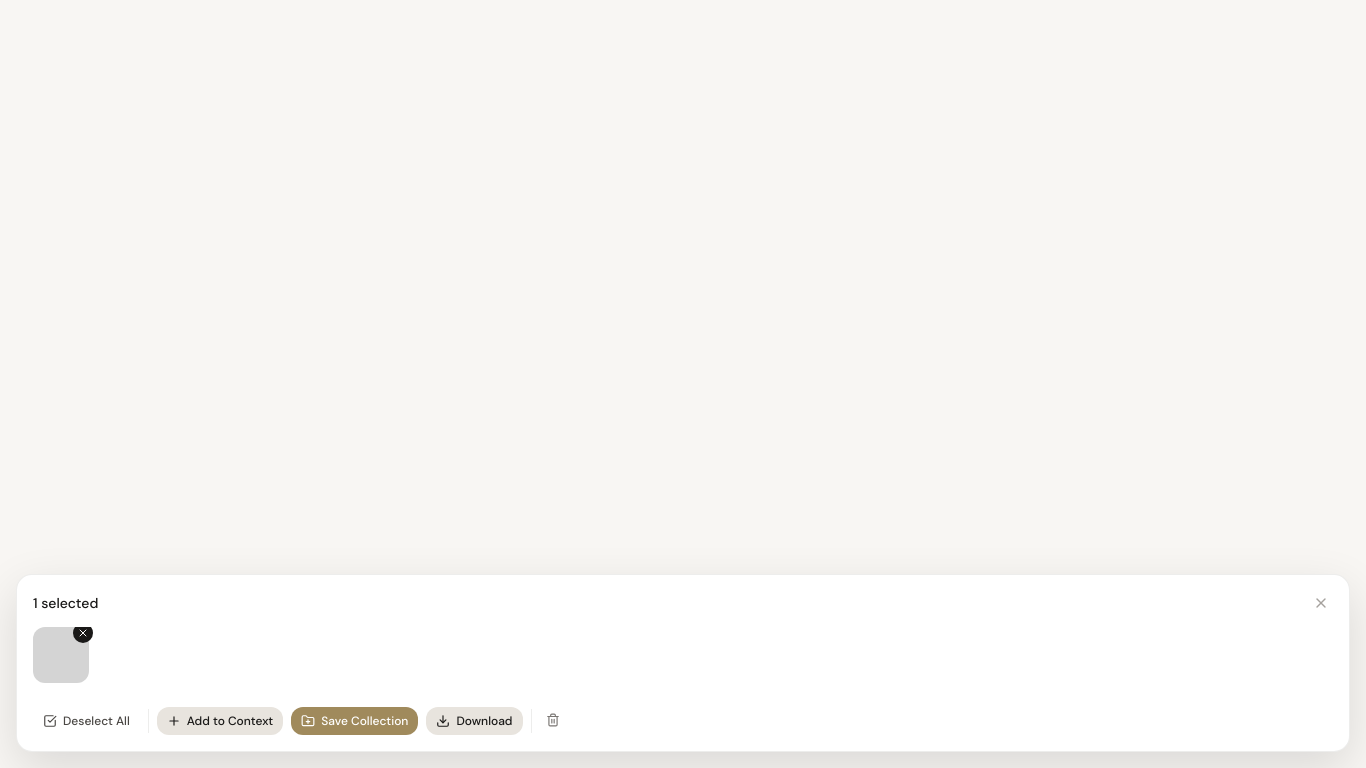
it: SelectionTray › collection dialog › should open dialog when Save Collection is clicked
Step 1. Click the button "Save Collection" → (355, 721), box [291,707,418,735]
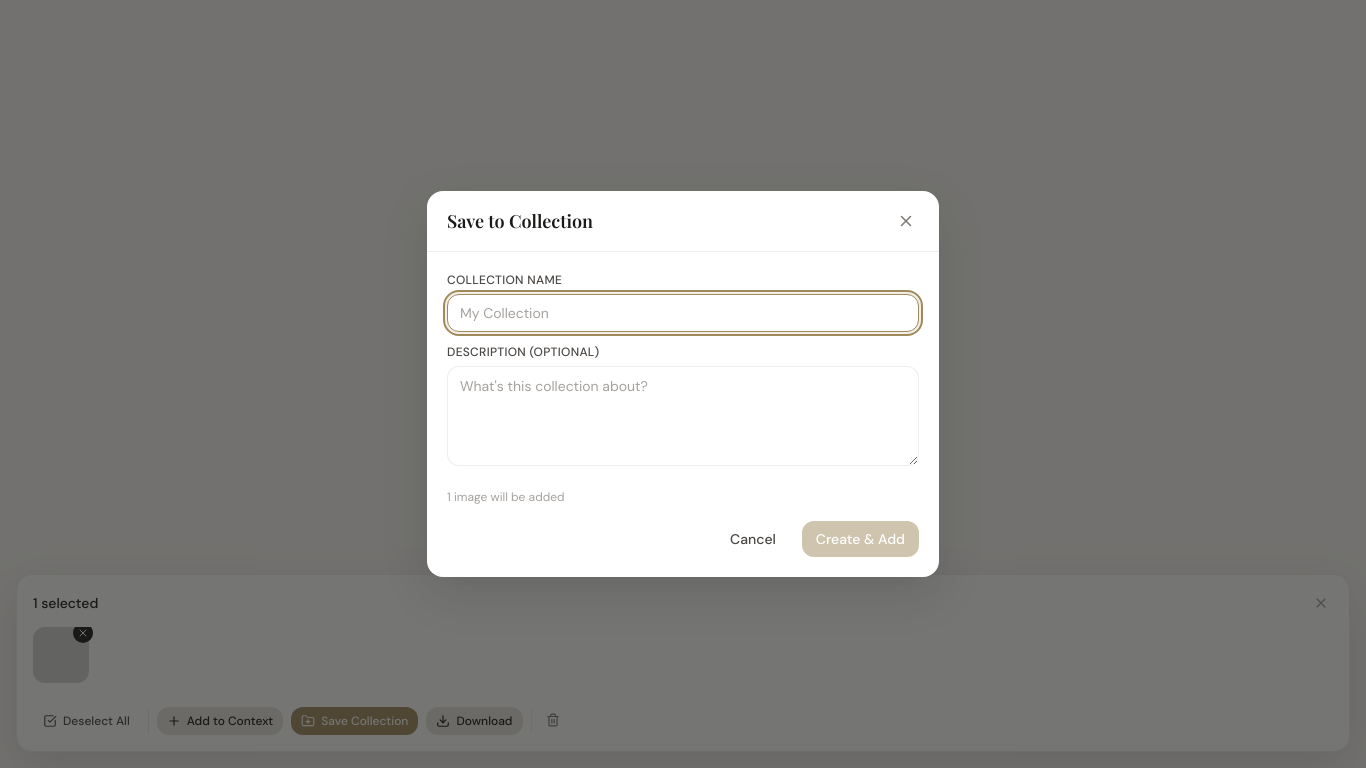
Expected: the heading "Save to Collection" is shown, [447,207,593,235]
Expected: the field labelled "Collection Name" is shown, [447,294,919,332]
